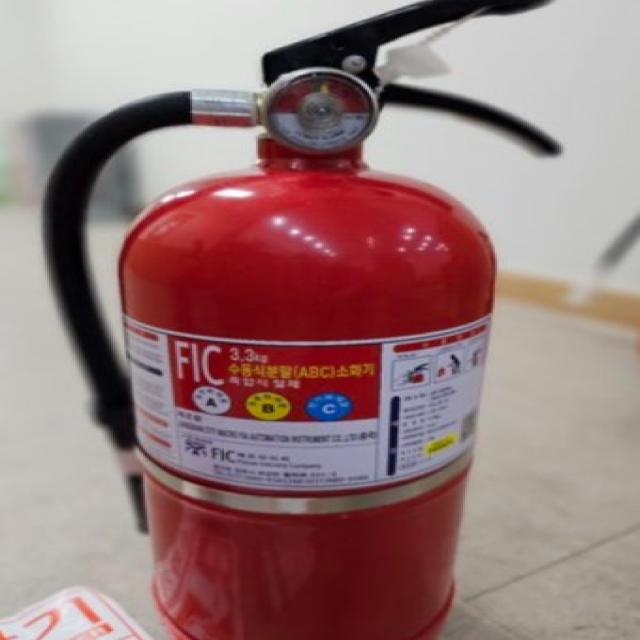pressure gauge: (262, 68, 378, 153)
